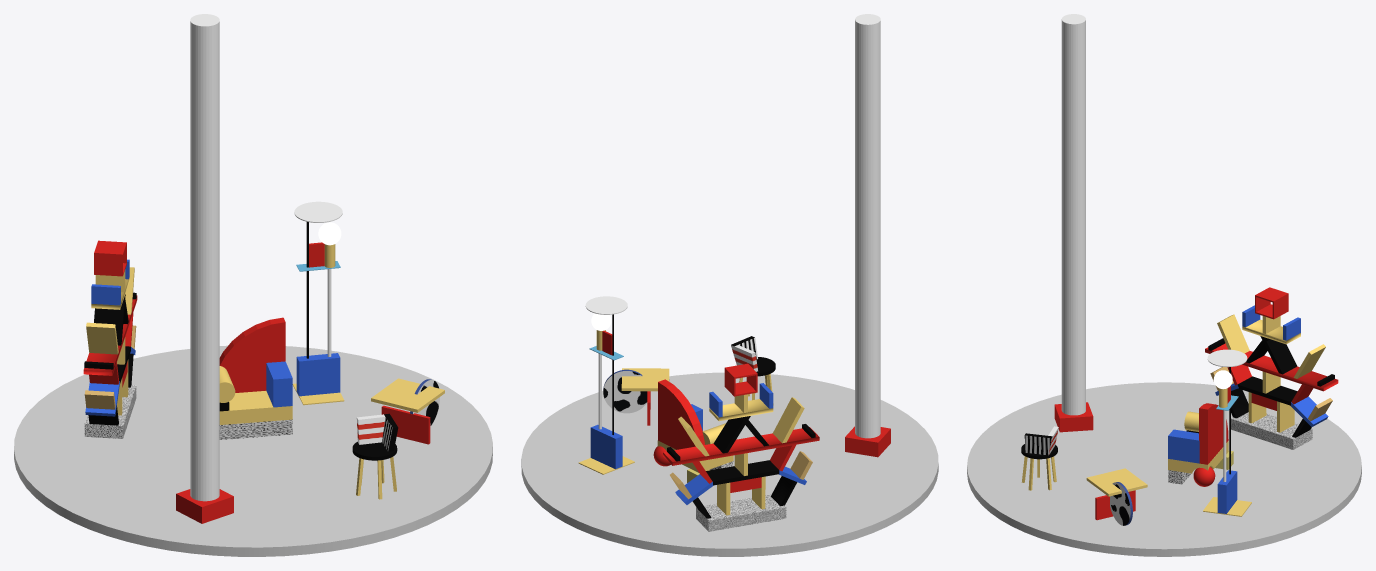
File: STANZA 2.gltf
3 renders of one model, left to right at view 1: azimuth 30°, elevation 25°; view 2: azimuth 150°, elevation 25°; view 3: azimuth 270°, elevation 25°, orthographic. The views are drawn at different scales.
Visible parts, largest first — view 1: Cylinder, Cylinder.111, Cube.016, Cube.068, Cube.023, Cube.039, Cube.102, Cube.031, Cube.038, Cube.043, Cube.090, Cube.088 (+7 smaller); view 2: Cylinder, Cylinder.111, Cube.016, Cube.088, Cube.087, Cylinder.030, Cube.068, Cube.089, Cube.102, Cube.039, Cube.090, Cube.084 (+4 smaller); view 3: Cylinder, Cylinder.111, Cube.088, Cube.016, Cube.087, Cube.039, Cube.043, Cube.090, Cube.102, Cube.089, Cube.068, Cube.084 (+6 smaller).
Part boxes in pixels (left/top/right/bottom): Cylinder: left=14, top=345, right=492, bottom=556; Cylinder.111: left=190, top=14, right=219, bottom=501; Cube.016: left=219, top=317, right=285, bottom=392; Cube.068: left=296, top=353, right=340, bottom=396; Cube.023: left=219, top=391, right=292, bottom=424; Cube.039: left=371, top=378, right=444, bottom=412; Cube.102: left=176, top=489, right=233, bottom=523; Cube.031: left=219, top=419, right=292, bottom=439; Cube.038: left=381, top=405, right=430, bottom=444; Cube.043: left=266, top=361, right=292, bottom=407; Cube.090: left=94, top=240, right=126, bottom=276; Cube.088: left=84, top=385, right=136, bottom=438; Cylinder: left=521, top=372, right=938, bottom=556; Cylinder.111: left=855, top=14, right=880, bottom=438; Cube.016: left=658, top=379, right=705, bottom=449; Cube.088: left=696, top=494, right=786, bottom=531; Cube.087: left=663, top=427, right=819, bottom=465; Cylinder.030: left=603, top=369, right=647, bottom=413; Cube.068: left=590, top=424, right=622, bottom=469; Cube.089: left=706, top=460, right=779, bottom=485; Cube.102: left=845, top=426, right=890, bottom=457; Cube.039: left=621, top=368, right=669, bottom=391; Cube.090: left=724, top=363, right=757, bottom=396; Cube.084: left=772, top=397, right=804, bottom=443; Cylinder: left=967, top=382, right=1361, bottom=556; Cylinder.111: left=1061, top=14, right=1085, bottom=415; Cube.088: left=1231, top=412, right=1312, bottom=449; Cube.016: left=1199, top=403, right=1228, bottom=464; Cube.087: left=1205, top=343, right=1338, bottom=391; Cube.039: left=1086, top=468, right=1147, bottom=496; Cube.043: left=1168, top=429, right=1199, bottom=463; Cube.090: left=1255, top=287, right=1288, bottom=319; Cube.102: left=1054, top=402, right=1093, bottom=432; Cube.089: left=1237, top=376, right=1297, bottom=405; Cube.068: left=1217, top=470, right=1237, bottom=513; Cube.084: left=1217, top=314, right=1249, bottom=353.
Bounding box in the file's own units: 4.37 × 5.04 × 4.37.
21 materials, 5 textured.
